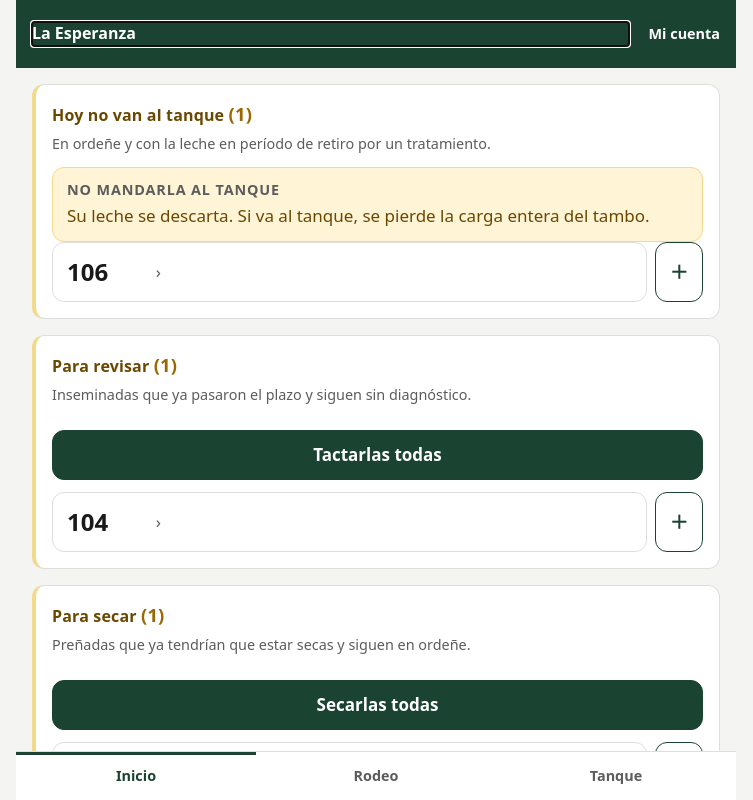
Test: salir › borra el token y vuelve al login, pero no olvida el tambo
Expected: the heading "La Esperanza" is shown, [32,22,136,44]
Step 1. Click the link "Mi cuenta" → (684,33), box [648,24,720,43]
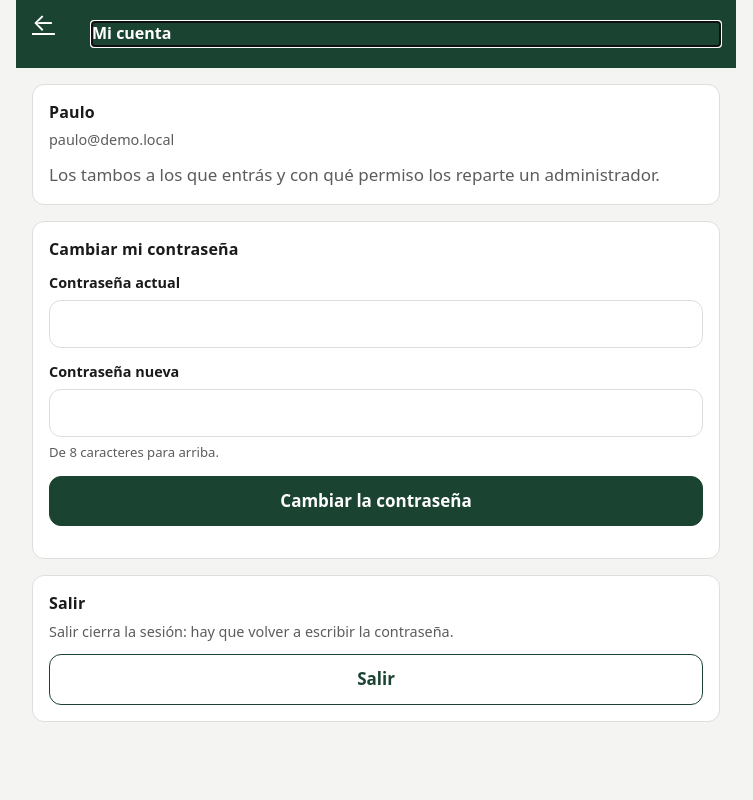
Step 2. Click the button "Salir" → (376,680), box [49,654,703,705]
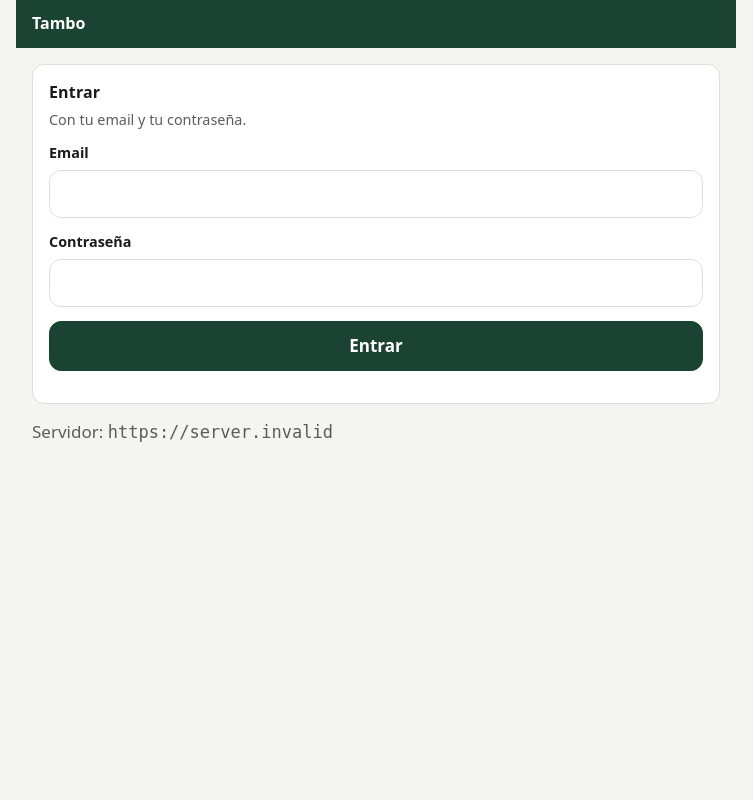
Expected: the heading "Entrar" is shown, [49,81,100,103]
